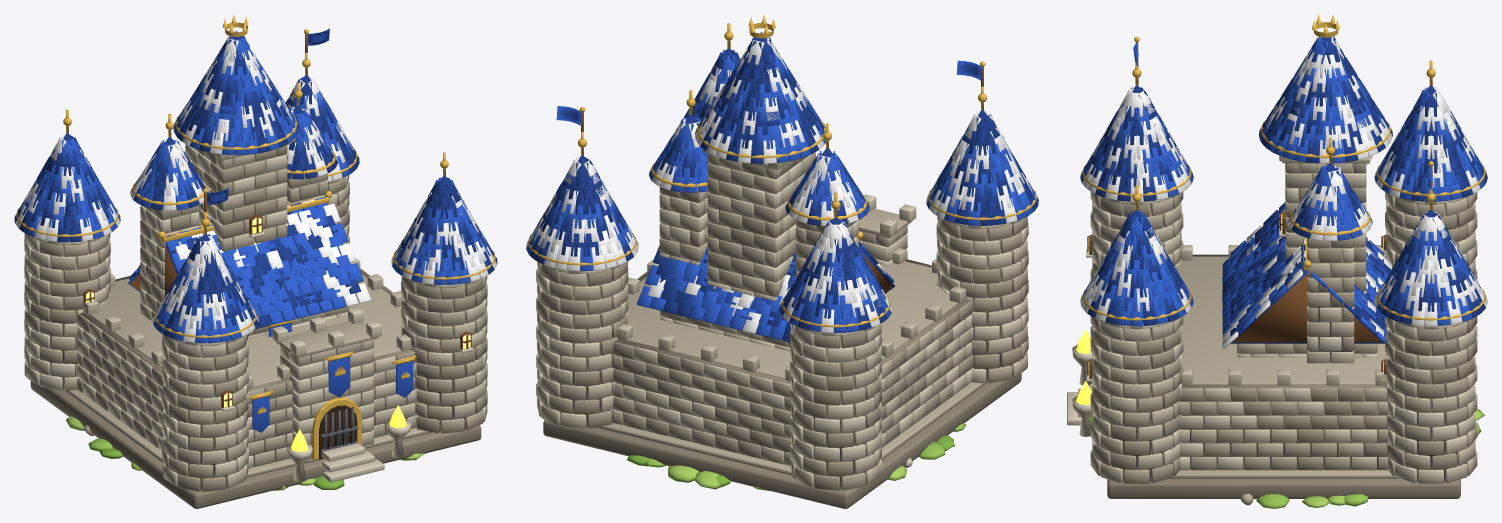
3 views of the same model, side by side, from view 1: azimuth 30°, elevation 25°; view 2: azimuth 150°, elevation 25°; view 3: azimuth 270°, elevation 25° (orthographic). The views are drawn at different scales.
Visible parts, largest first — view 1: root_matte#b8ad98, root_team, root_matte#c9bea8, root_matte#d6ccb6, root_team_dark, root_team_light, root_matte#a99e8a, root_matte#8f8472, root_gold#f0bd4c, root_matte#7a4e2a, gateDoorSurround, root_metal#5e646c (+1 smaller); view 2: root_matte#b8ad98, root_matte#c9bea8, root_team, root_team_dark, root_matte#d6ccb6, root_matte#a99e8a, root_team_light, root_matte#8f8472, root_gold#f0bd4c, root_matte#a8d060, root_matte#94c252; view 3: root_matte#b8ad98, root_team, root_matte#c9bea8, root_team_dark, root_team_light, root_matte#d6ccb6, root_matte#a99e8a, root_matte#8f8472, root_gold#f0bd4c, root_matte#7a4e2a, root_matte#94c252, root_matte#a8d060 (+1 smaller).
Boxes of the visible parts, x1=… form: root_matte#b8ad98: x1=24, y1=142, x2=487, y2=478; root_team: x1=15, y1=28, x2=496, y2=432; root_matte#c9bea8: x1=24, y1=131, x2=487, y2=488; root_matte#d6ccb6: x1=24, y1=144, x2=487, y2=482; root_team_dark: x1=14, y1=31, x2=497, y2=337; root_team_light: x1=15, y1=36, x2=497, y2=342; root_matte#a99e8a: x1=24, y1=145, x2=487, y2=491; root_matte#8f8472: x1=30, y1=149, x2=481, y2=508; root_gold#f0bd4c: x1=16, y1=15, x2=495, y2=413; root_matte#7a4e2a: x1=83, y1=34, x2=471, y2=407; gateDoorSurround: x1=311, y1=397, x2=361, y2=459; root_metal#5e646c: x1=320, y1=407, x2=358, y2=452; root_matte#b8ad98: x1=537, y1=149, x2=1028, y2=490; root_matte#c9bea8: x1=536, y1=157, x2=1027, y2=487; root_team: x1=526, y1=37, x2=1038, y2=339; root_team_dark: x1=529, y1=32, x2=1037, y2=342; root_matte#d6ccb6: x1=536, y1=161, x2=1028, y2=474; root_matte#a99e8a: x1=536, y1=155, x2=1028, y2=490; root_team_light: x1=526, y1=37, x2=1038, y2=333; root_matte#8f8472: x1=543, y1=157, x2=1021, y2=508; root_gold#f0bd4c: x1=527, y1=14, x2=1036, y2=327; root_matte#a8d060: x1=668, y1=465, x2=906, y2=489; root_matte#94c252: x1=644, y1=423, x2=966, y2=491; root_matte#b8ad98: x1=1090, y1=157, x2=1477, y2=505; root_team: x1=1080, y1=36, x2=1487, y2=343; root_matte#c9bea8: x1=1090, y1=150, x2=1477, y2=483; root_team_dark: x1=1087, y1=36, x2=1487, y2=343; root_team_light: x1=1080, y1=36, x2=1487, y2=348; root_matte#d6ccb6: x1=1067, y1=163, x2=1477, y2=483; root_matte#a99e8a: x1=1090, y1=163, x2=1477, y2=483; root_matte#8f8472: x1=1101, y1=163, x2=1466, y2=498; root_gold#f0bd4c: x1=1082, y1=14, x2=1485, y2=320; root_matte#7a4e2a: x1=1087, y1=42, x2=1432, y2=379; root_matte#94c252: x1=1256, y1=494, x2=1368, y2=508; root_matte#a8d060: x1=1302, y1=409, x2=1484, y2=507.
Size of the model in its own units: 4.37 by 4.89 by 4.52.
